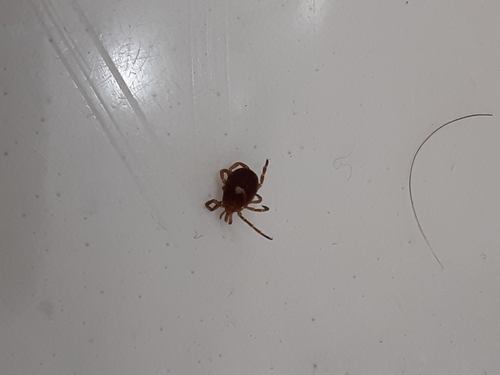dog tick: (204, 160, 274, 241)
